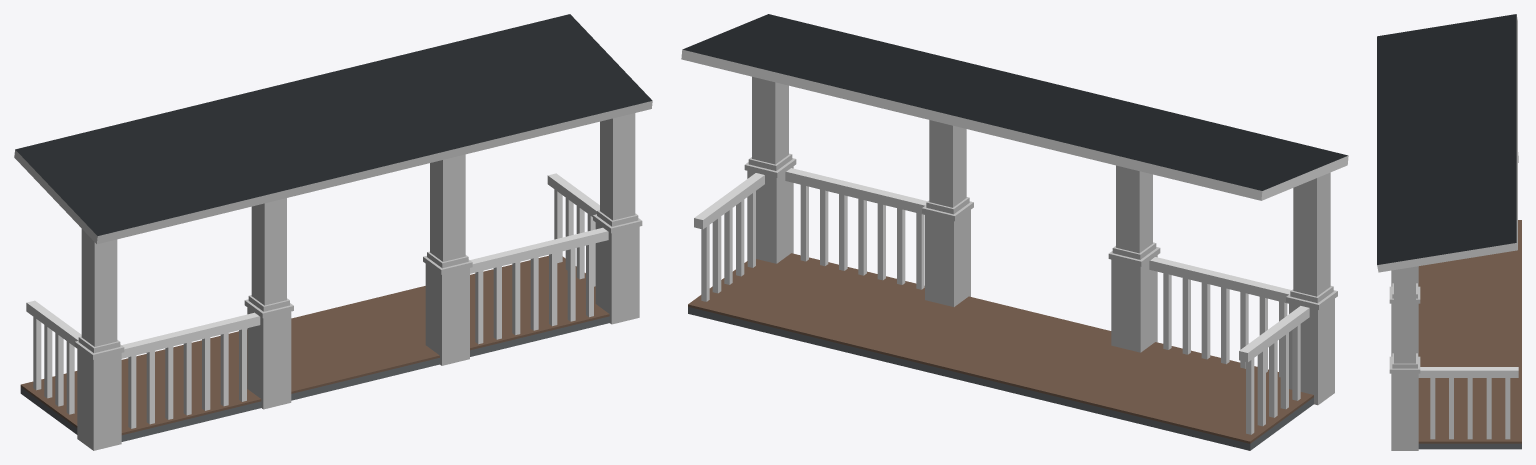
The model's file is Terrace4_C1.fbx.
3 views of the same model, side by side, from view 1: azimuth 30°, elevation 25°; view 2: azimuth 150°, elevation 25°; view 3: azimuth 270°, elevation 25° (orthographic). The views are drawn at different scales.
Parts seen in each view (by area): view 1: Terrace4_C1; view 2: Terrace4_C1; view 3: Terrace4_C1.
Boxes of the visible parts, box(x1,y1,x2,y2) form: Terrace4_C1: box(14, 14, 652, 450); Terrace4_C1: box(681, 14, 1348, 450); Terrace4_C1: box(1377, 14, 1521, 450).
Bounding box in the file's own units: 6.5 × 2.78 × 1.74.
